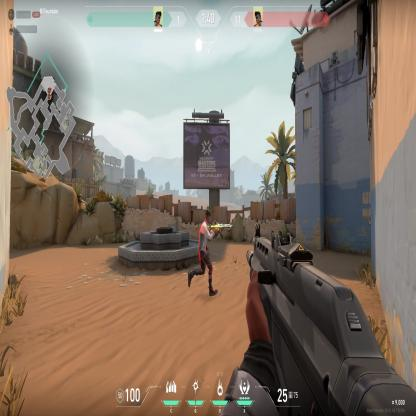enemy: (188, 208, 218, 299)
